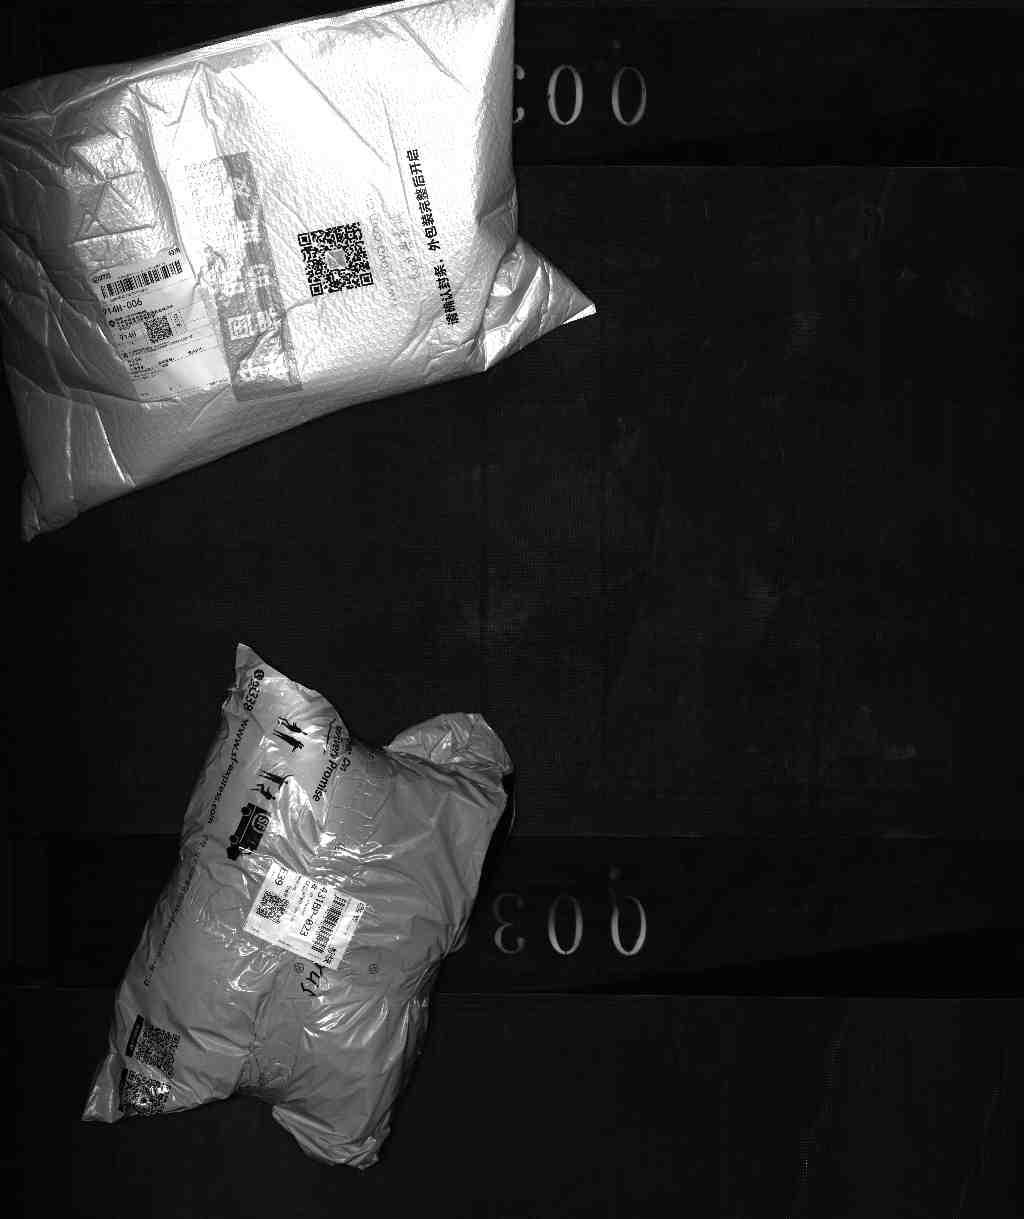box: (9, 4, 618, 551), (77, 654, 516, 1171)
